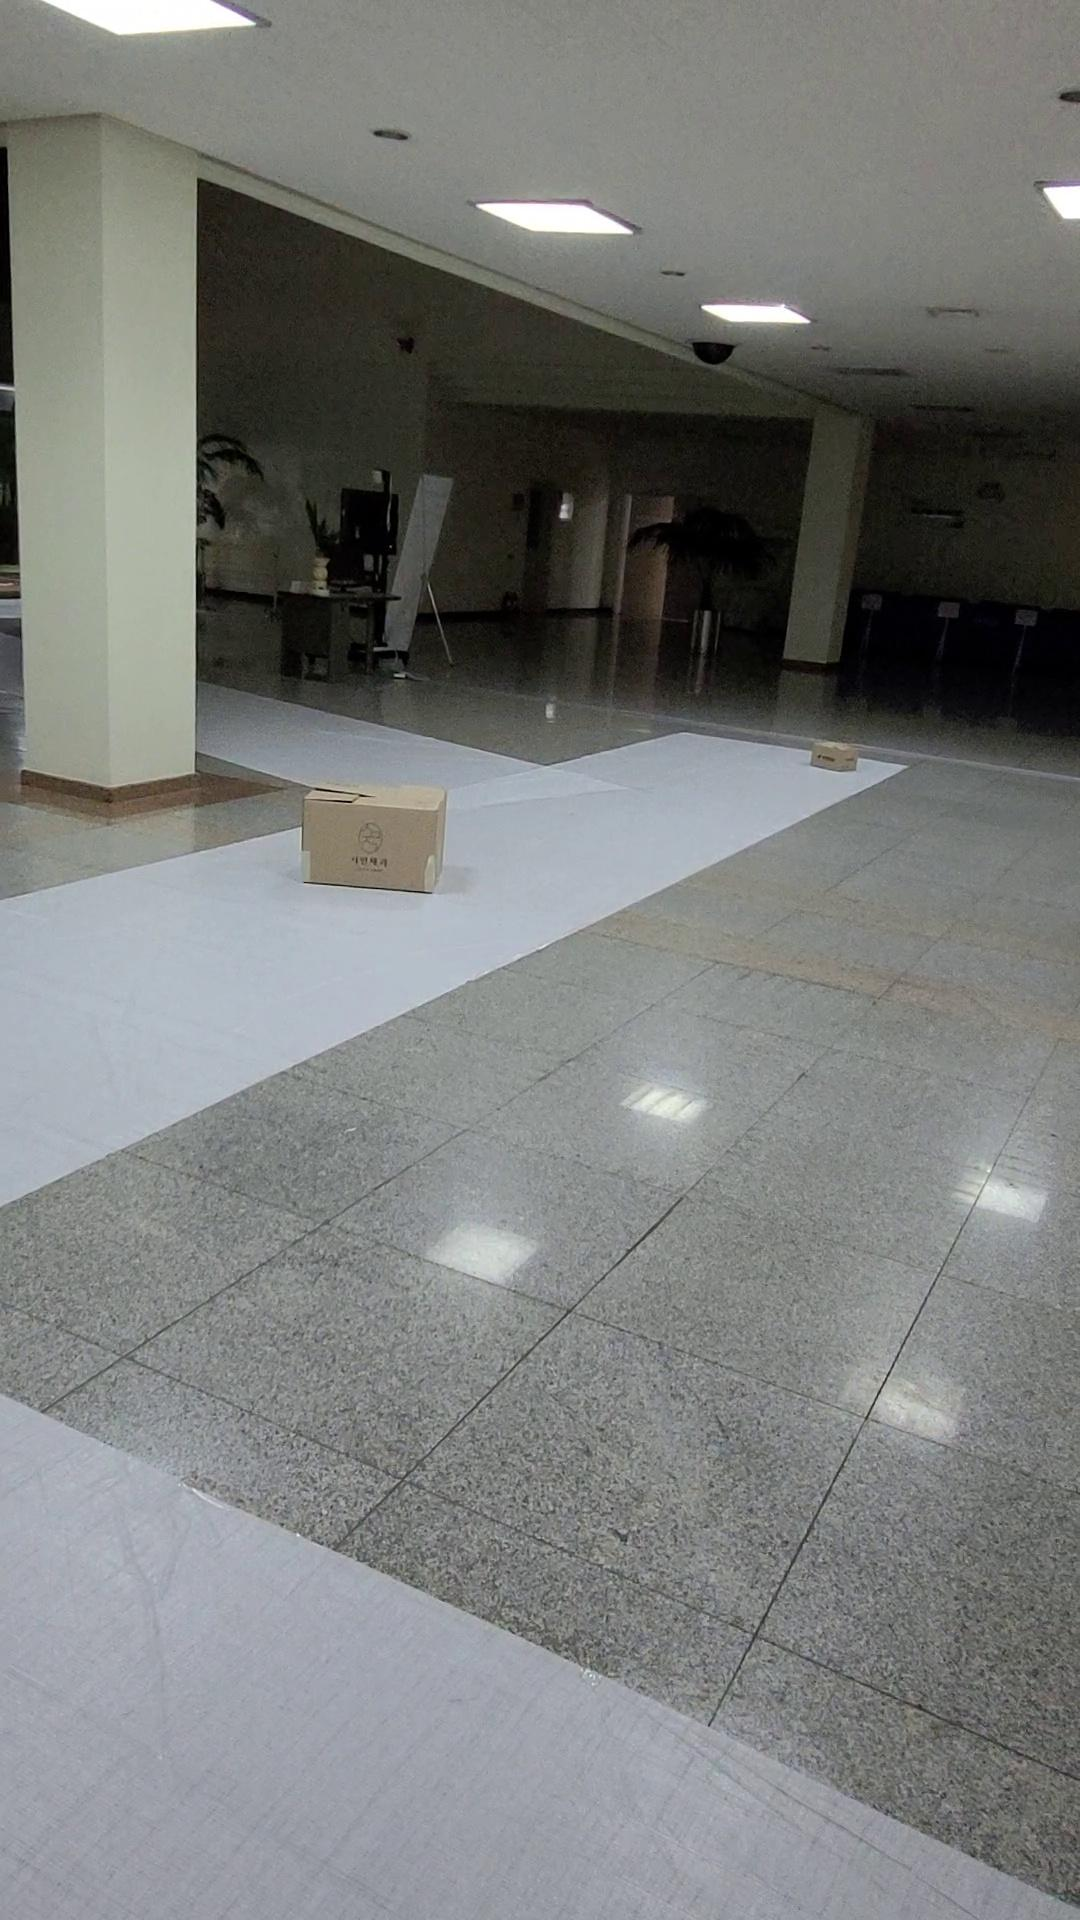Box: (286, 760, 458, 905), (803, 733, 862, 778)
